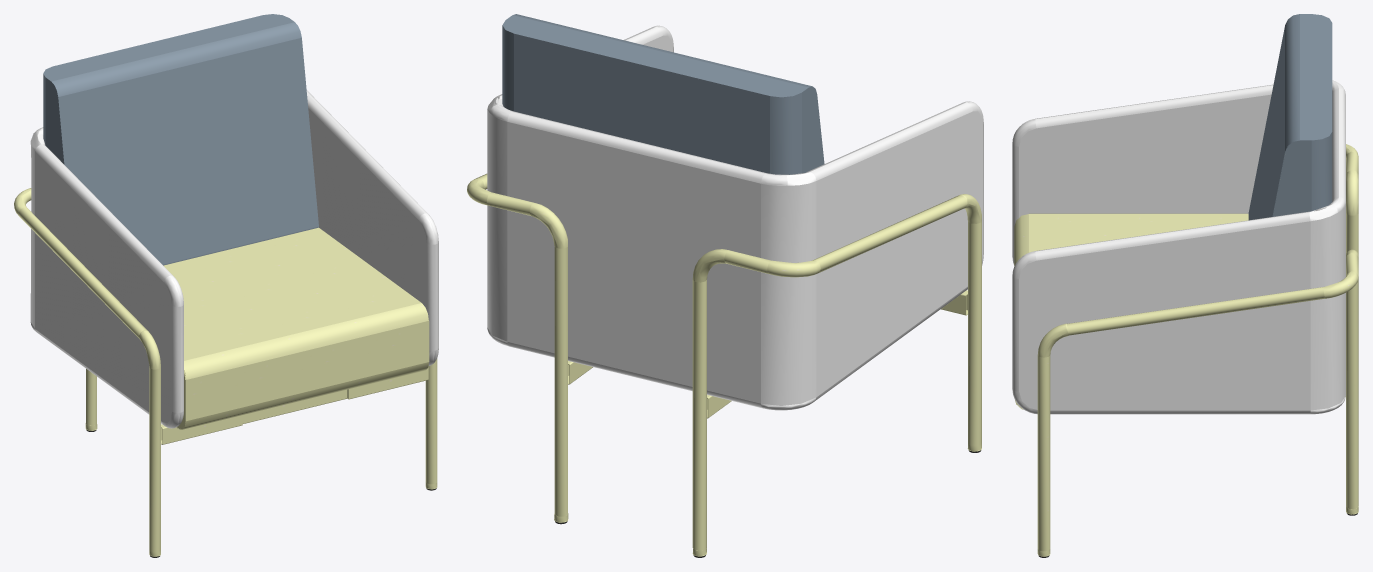
3 renders of one model, left to right at view 1: azimuth 30°, elevation 25°; view 2: azimuth 150°, elevation 25°; view 3: azimuth 270°, elevation 25°, orthographic. The views are drawn at different scales.
Visible parts, largest first — view 1: 8694cf0e-2111-4613-af27-463048a51c56, 8cabb05e-0457-4c3f-806f-b3900c011cae, d4b0cfa3-fd8f-4291-a597-b3a9ba095e3b, ec022544-19bc-4613-9c25-2109c3d60b8b; view 2: 8cabb05e-0457-4c3f-806f-b3900c011cae, 8694cf0e-2111-4613-af27-463048a51c56, ec022544-19bc-4613-9c25-2109c3d60b8b; view 3: 8cabb05e-0457-4c3f-806f-b3900c011cae, 8694cf0e-2111-4613-af27-463048a51c56, ec022544-19bc-4613-9c25-2109c3d60b8b, d4b0cfa3-fd8f-4291-a597-b3a9ba095e3b.
Part boxes in pixels (bbox=[...]): 8694cf0e-2111-4613-af27-463048a51c56: bbox=[43, 14, 318, 265]; 8cabb05e-0457-4c3f-806f-b3900c011cae: bbox=[30, 90, 438, 428]; d4b0cfa3-fd8f-4291-a597-b3a9ba095e3b: bbox=[163, 227, 429, 429]; ec022544-19bc-4613-9c25-2109c3d60b8b: bbox=[14, 188, 437, 556]; 8cabb05e-0457-4c3f-806f-b3900c011cae: bbox=[487, 25, 983, 410]; 8694cf0e-2111-4613-af27-463048a51c56: bbox=[502, 14, 824, 174]; ec022544-19bc-4613-9c25-2109c3d60b8b: bbox=[467, 173, 981, 556]; 8cabb05e-0457-4c3f-806f-b3900c011cae: bbox=[1012, 80, 1345, 414]; 8694cf0e-2111-4613-af27-463048a51c56: bbox=[1248, 14, 1332, 220]; ec022544-19bc-4613-9c25-2109c3d60b8b: bbox=[1037, 144, 1358, 556]; d4b0cfa3-fd8f-4291-a597-b3a9ba095e3b: bbox=[1014, 213, 1248, 409].
Bounding box in the file's own units: 0.7061 × 0.8999 × 0.6944.
4 materials, 1 textured.
